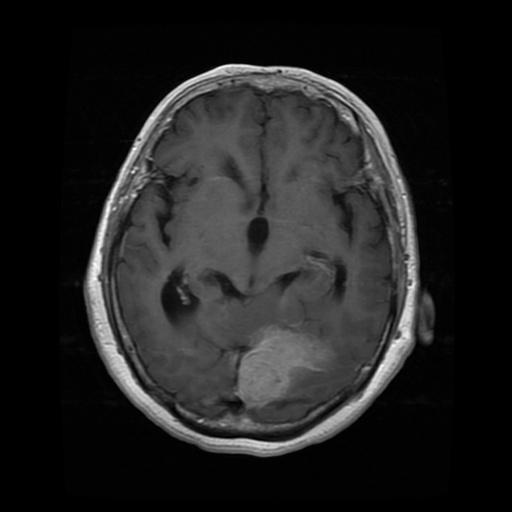meningioma: (236, 325, 331, 405)
